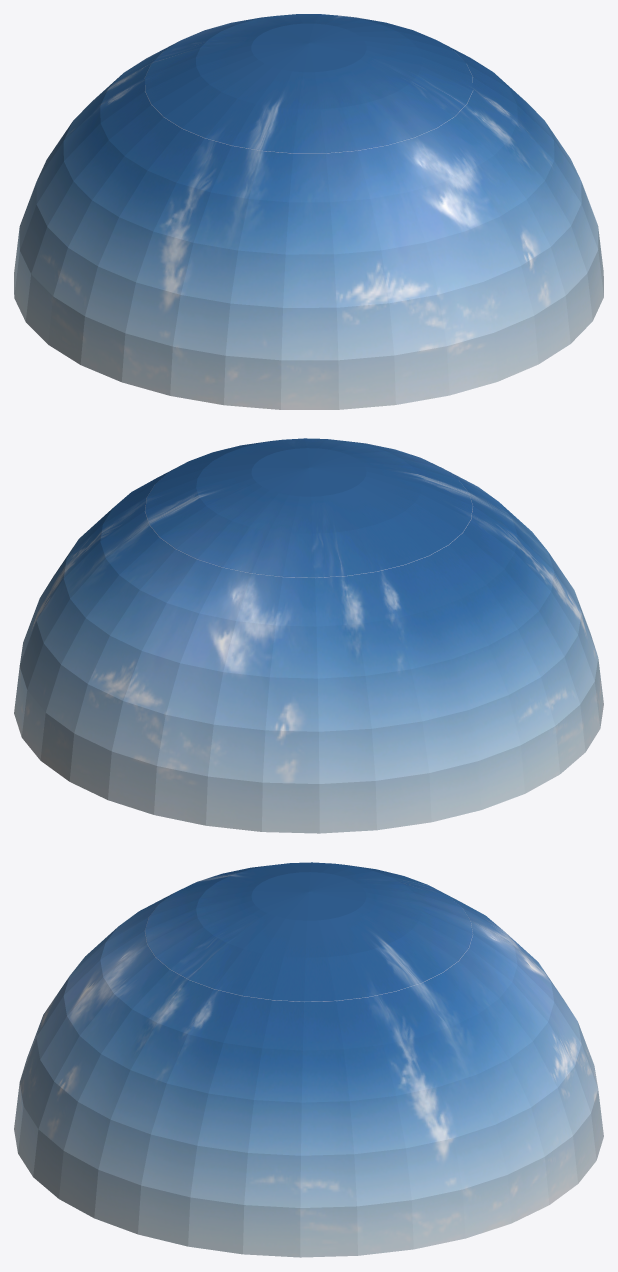
The model's file is silverstone_sky.glb.
The picture shows the model from 3 angles, top to bottom: view 1: azimuth 30°, elevation 25°; view 2: azimuth 150°, elevation 25°; view 3: azimuth 270°, elevation 25°; orthographic projection.
Bounding box in the file's own units: 2199 × 991 × 2199.
Materials: 2 (2 with a texture image).
